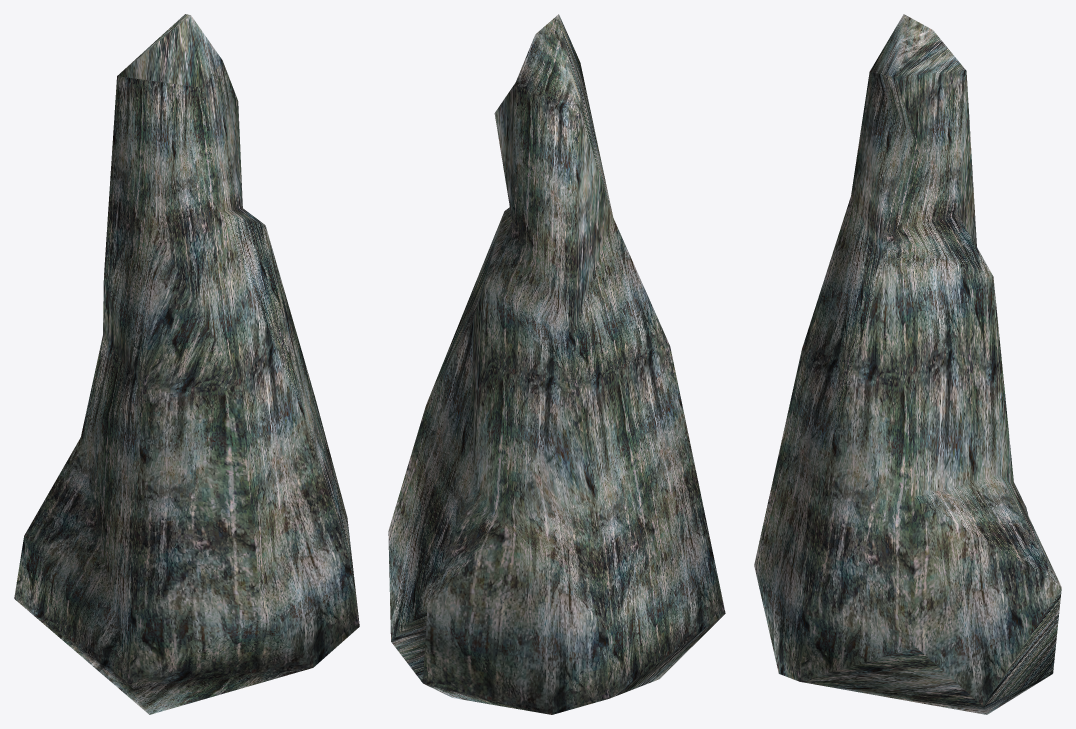
Rendered from rock_dath_desertcanyon_lg_a1_l2.fbx.
3 views of the same model, side by side, from view 1: azimuth 30°, elevation 25°; view 2: azimuth 150°, elevation 25°; view 3: azimuth 270°, elevation 25° (orthographic).
Parts seen in each view (by area): view 1: mesh_node; view 2: mesh_node; view 3: mesh_node.
Part boxes in pixels (x1,y1,x2,y2): mesh_node: (14,14,359,714); mesh_node: (388,14,725,714); mesh_node: (754,14,1061,714).
Size of the model in its own units: 7.96 by 18.25 by 7.6.
